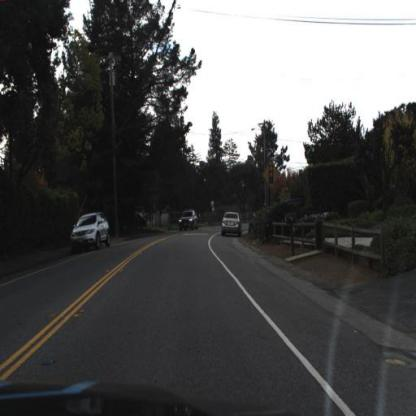car: (70, 211, 111, 251), (220, 210, 244, 237), (181, 208, 199, 227)
